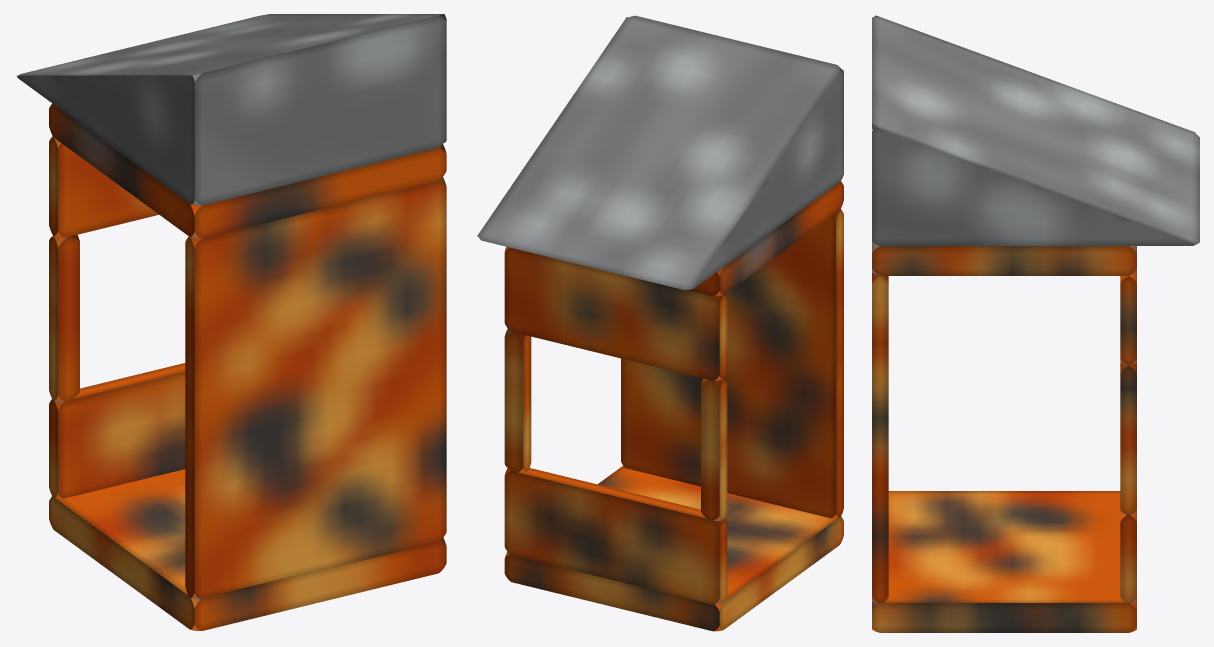
File: ConstractionWay.fbx
3 renders of one model, left to right at view 1: azimuth 30°, elevation 25°; view 2: azimuth 150°, elevation 25°; view 3: azimuth 270°, elevation 25°, orthographic. The views are drawn at different scales.
Parts seen in each view (by area): view 1: cuboid; view 2: cuboid; view 3: cuboid.
Boxes of the visible parts, x1,y1,x2,y2 form: cuboid: (17, 14, 446, 630); cuboid: (477, 15, 843, 631); cuboid: (872, 15, 1199, 632).
Bounding box in the file's own units: 100 × 211 × 124.
Materials: 1 (1 with a texture image).
